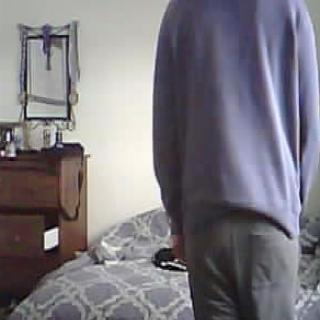Blue Hoodie: (150, 0, 320, 232)
Gray Sweatpants: (171, 217, 316, 320)
